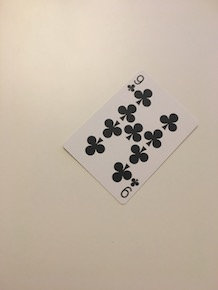NineOfClubs: (58, 69, 204, 205)
